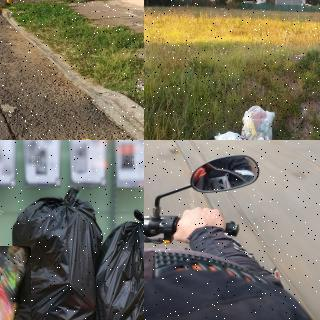Garbage: (11, 184, 102, 320), (89, 207, 144, 320), (0, 246, 31, 320), (240, 105, 280, 140)
